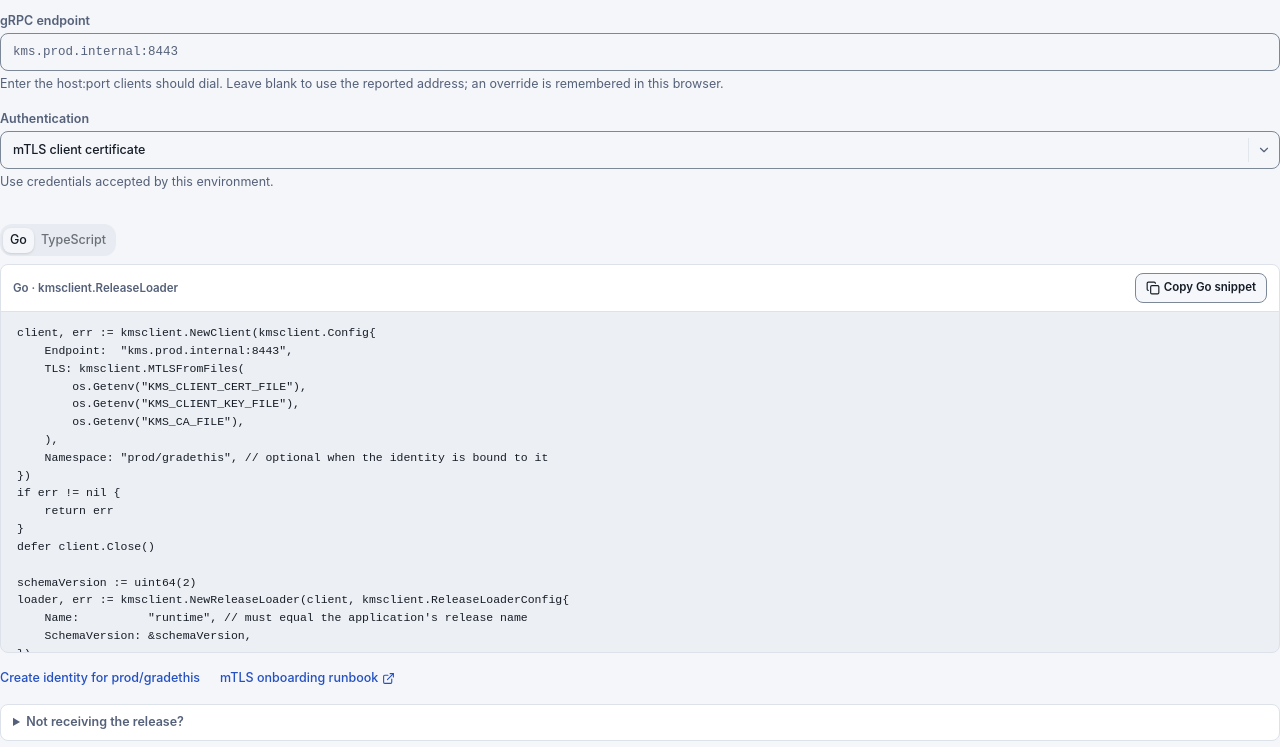
Test case: ConnectSdkPanel › lists the three usual failures
This screenshot has width=1280, height=747.
Click the heading "Not receiving the release?" at (105, 721), box [26,714,184,729]
(page scrolled)
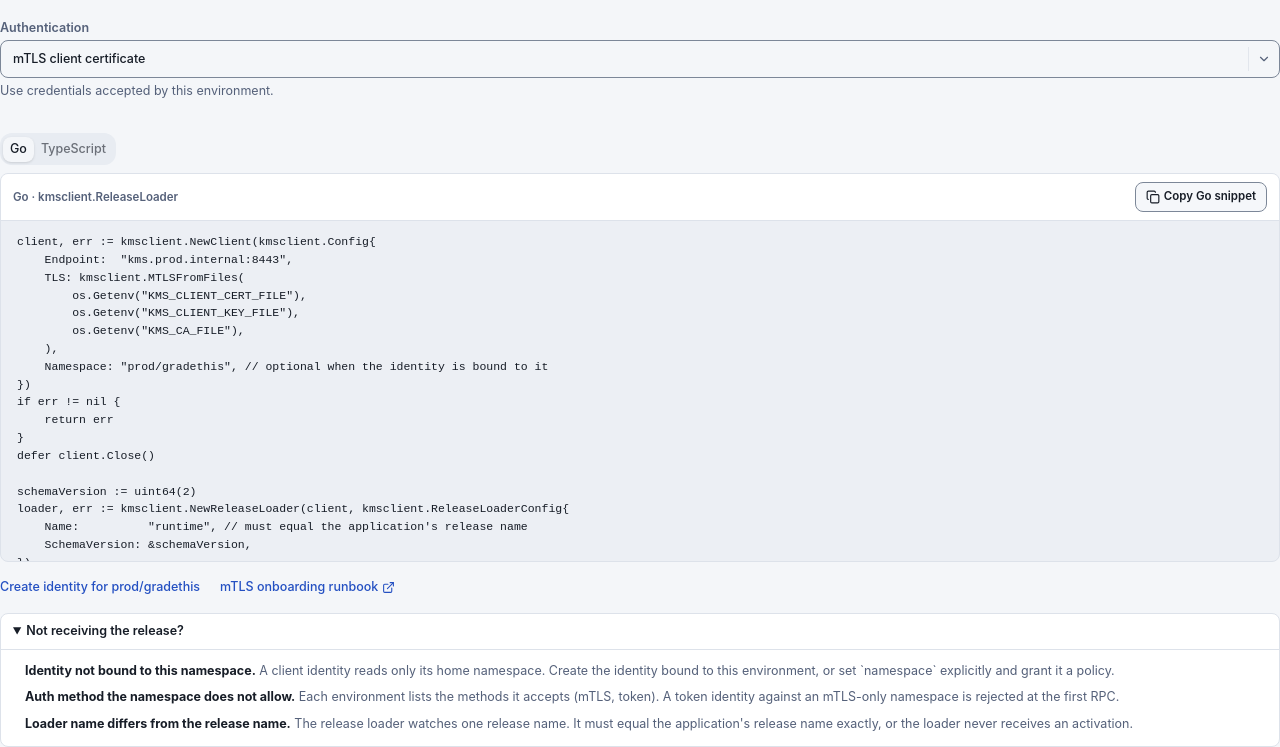
Expected: the text "Identity not bound to this namespace." is shown, [25,663,256,678]
Expected: the text "Auth method the namespace does not allow." is shown, [25,689,295,704]
Expected: the text "Loader name differs from the release name." is shown, [25,716,291,731]
